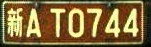A: (26, 8, 41, 37)
